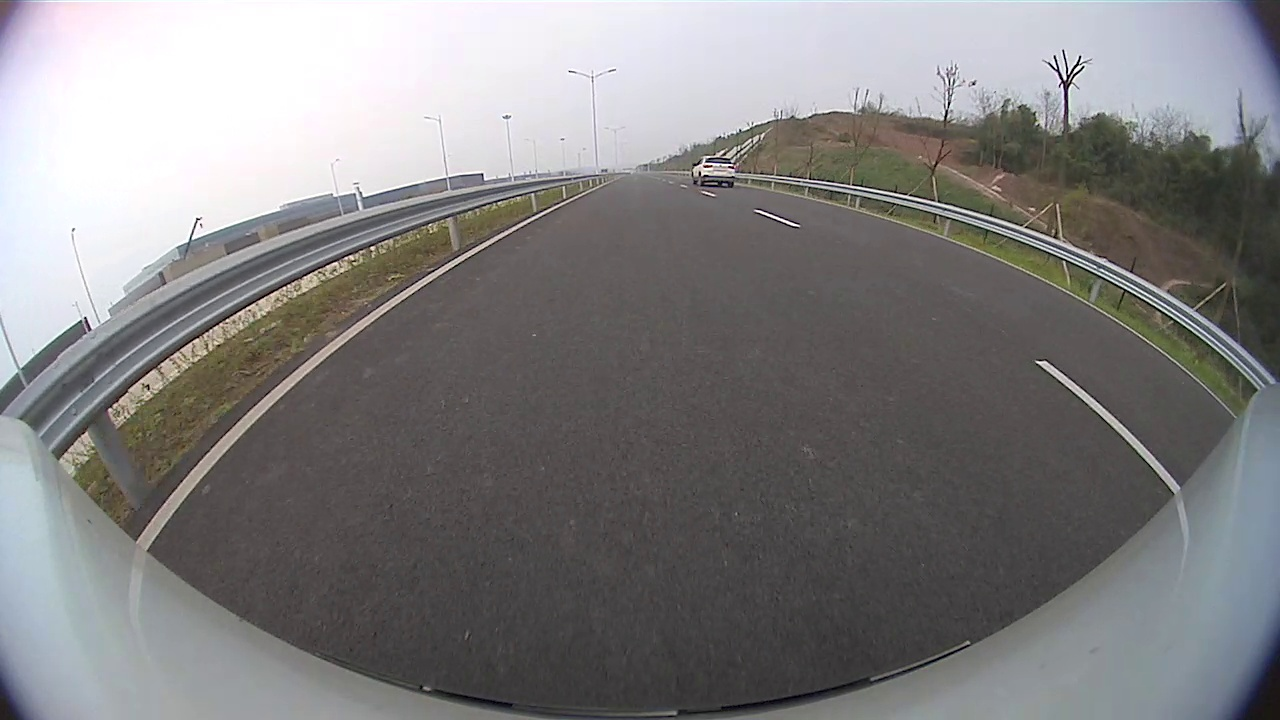car: (691, 155, 736, 187)
